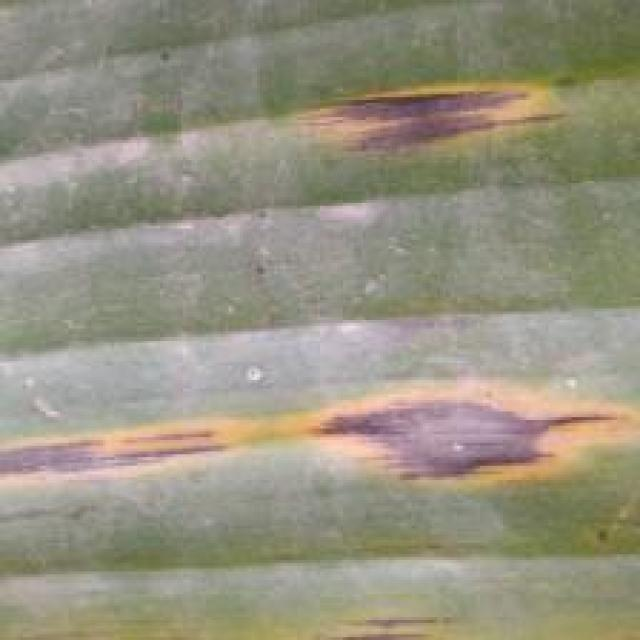Early_leaf_spot: (0, 363, 640, 542), (268, 42, 588, 210), (305, 588, 468, 640)
